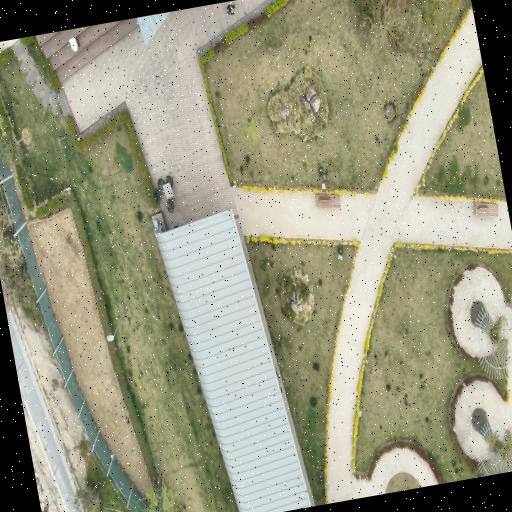person: (226, 4, 235, 14), (125, 416, 129, 423)
